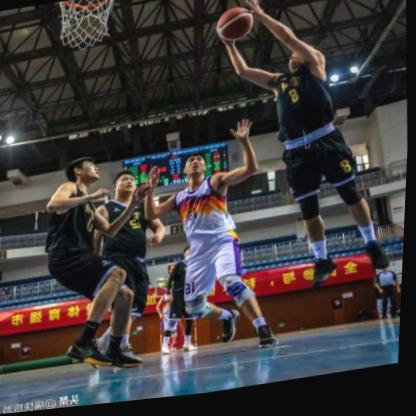basketball: (216, 10, 253, 49)
